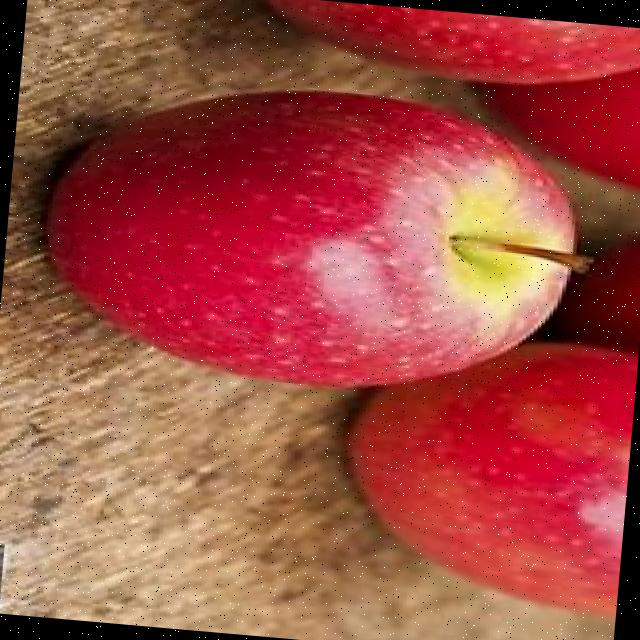apple: (31, 66, 604, 408)
